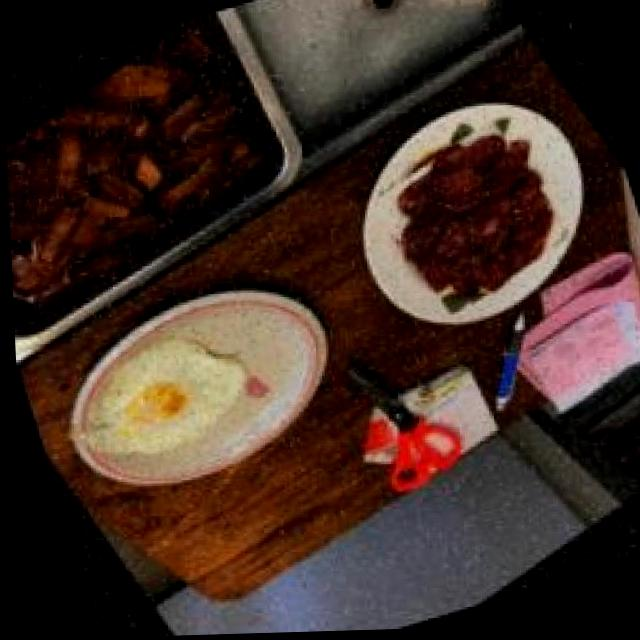chinese_sausage: (354, 107, 587, 335)
fried_eggs: (51, 299, 272, 494)
